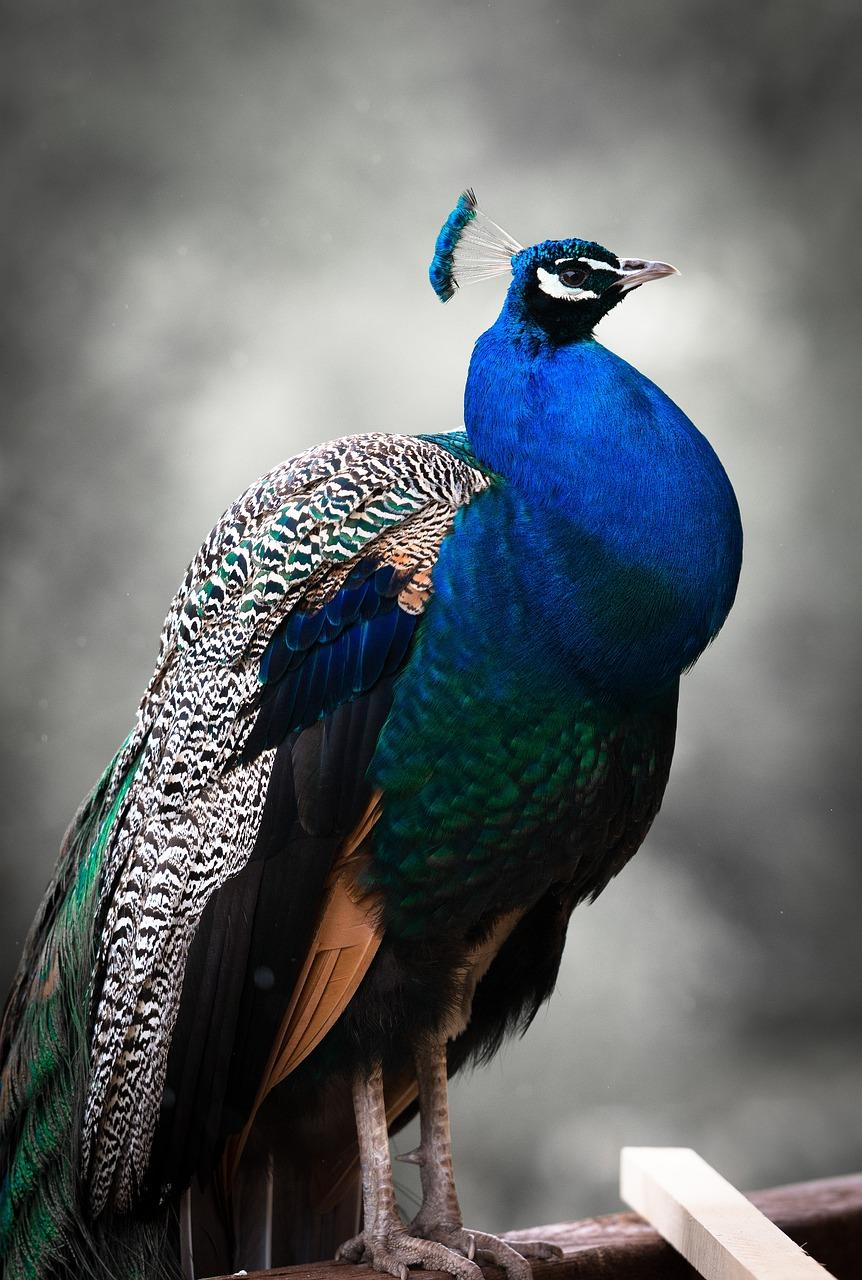bird: (0, 191, 741, 1279)
